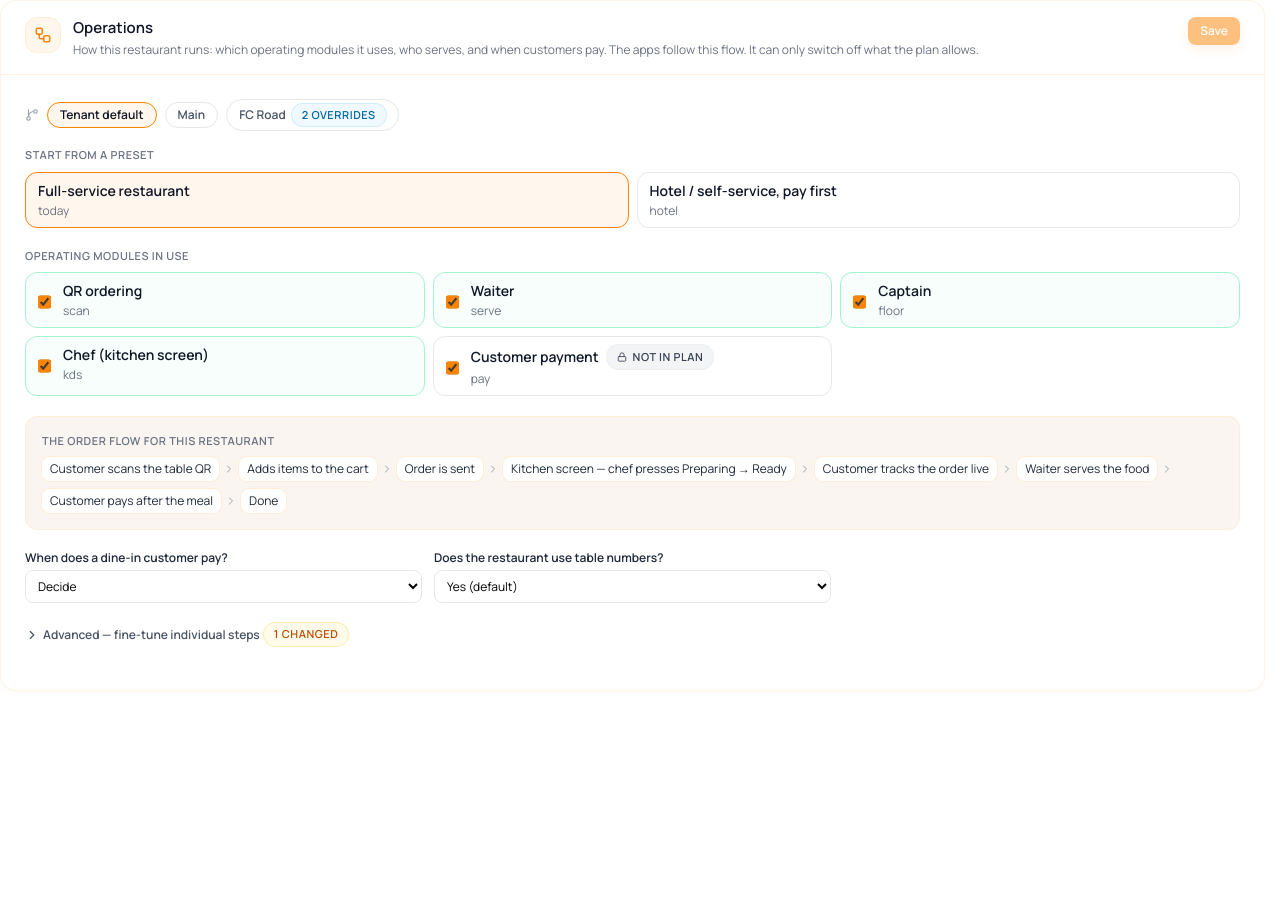
Scenario: OperationsPanel › per-branch overrides (design §12.1) › advanced rows show the override tag and revert to the tenant value
Expected: the element with test id "ops-modules" is shown, [25,272,1240,396]
Expected: the element with test id "ops-scope" is shown, [25,98,399,131]
Click the button "FC Road 2 overrides".
click(312, 115)  # box [226,98,399,131]
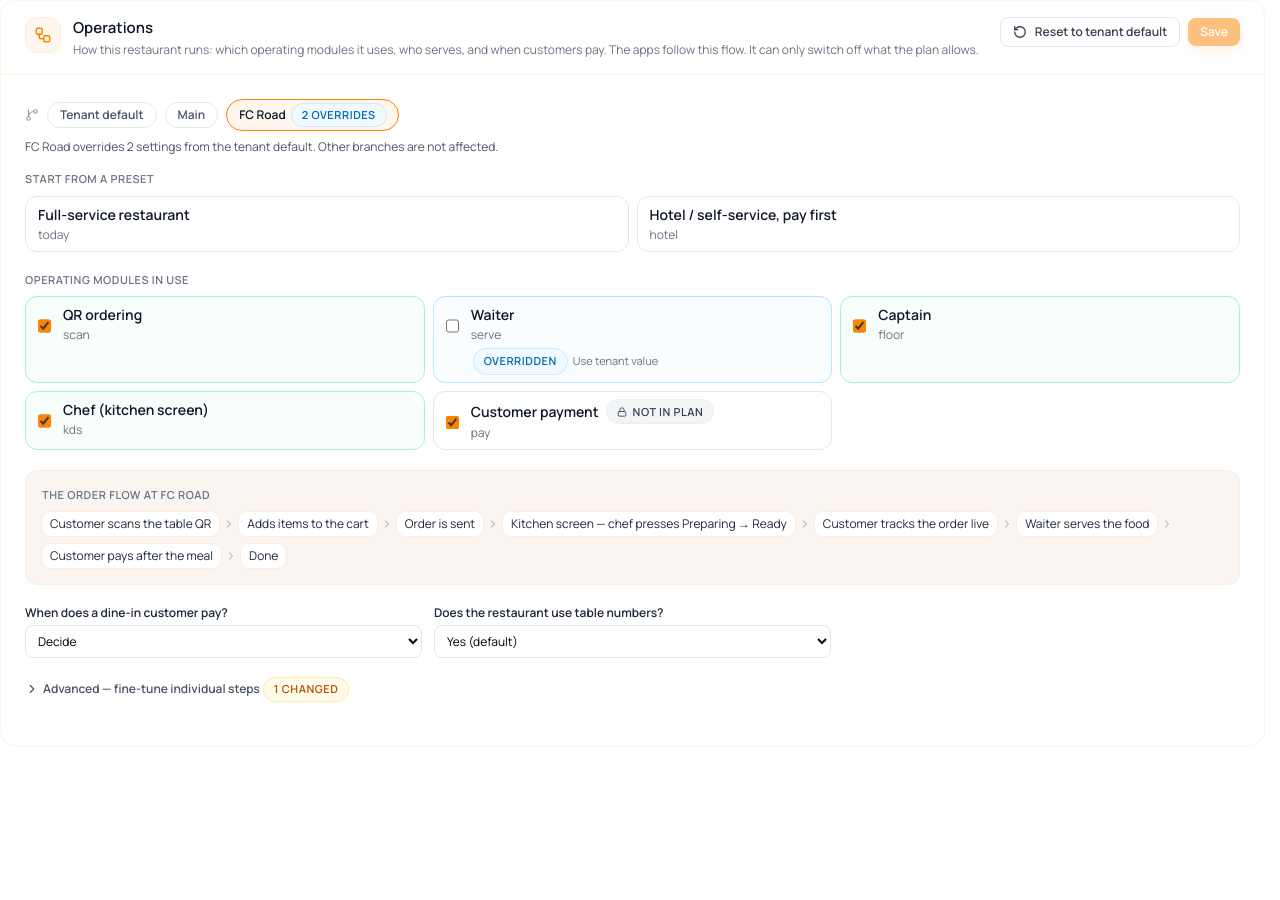
Expected: the text with test id "ops-branch-note" shows "overrides 2 settings", [25,138,498,155]
Click the button "Advanced — fine-tune individual steps 1 changed".
click(187, 689)  # box [25,678,348,701]
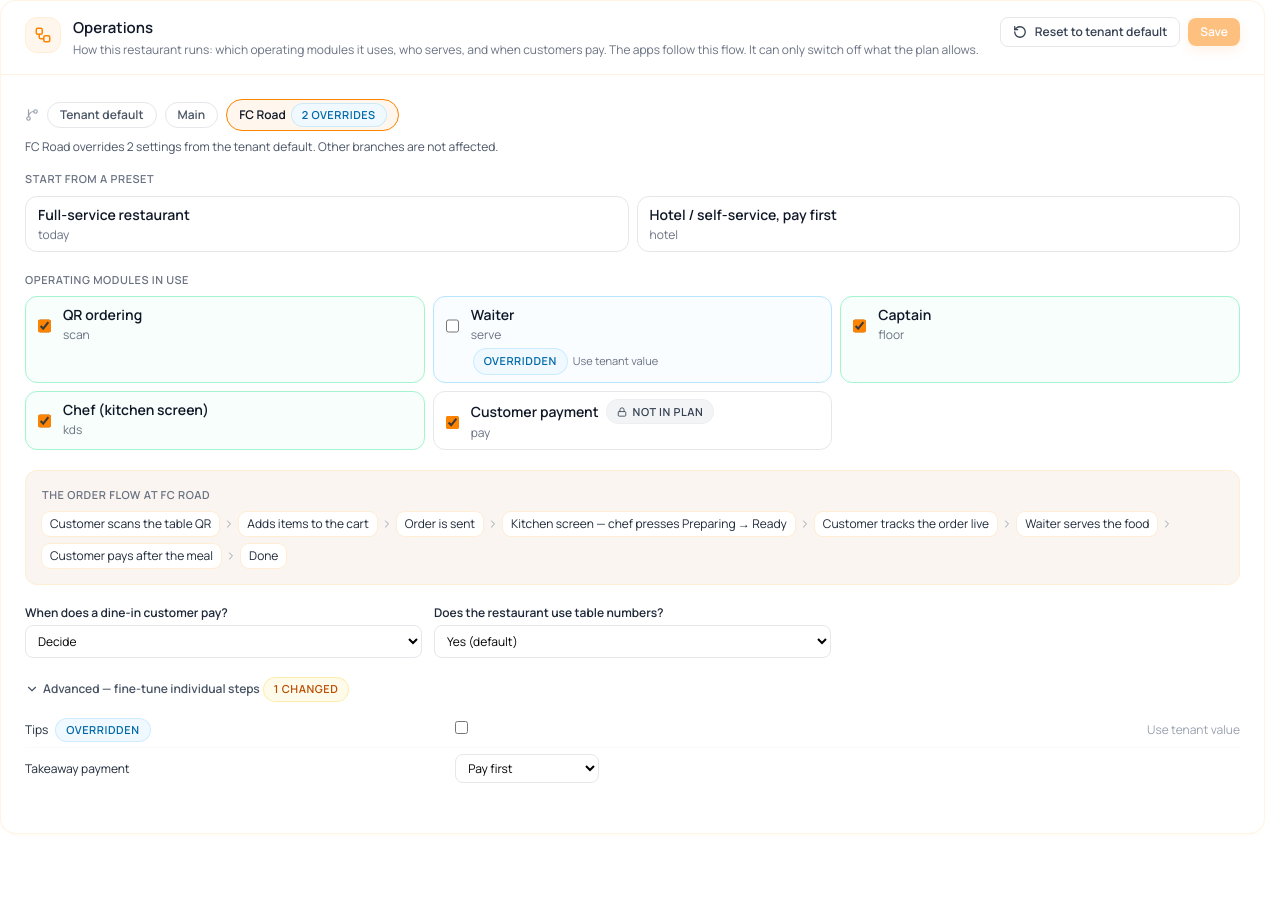
Expected: the element with test id "ops-override-advanced.customerApp.tips" is shown, [56,720,150,738]
Expected: the checkbox named "Tips" is not checked, [455,721,468,734]
Click the button "Use tenant value" in the row of "Tips".
click(1194, 730)  # box [1147,722,1240,738]
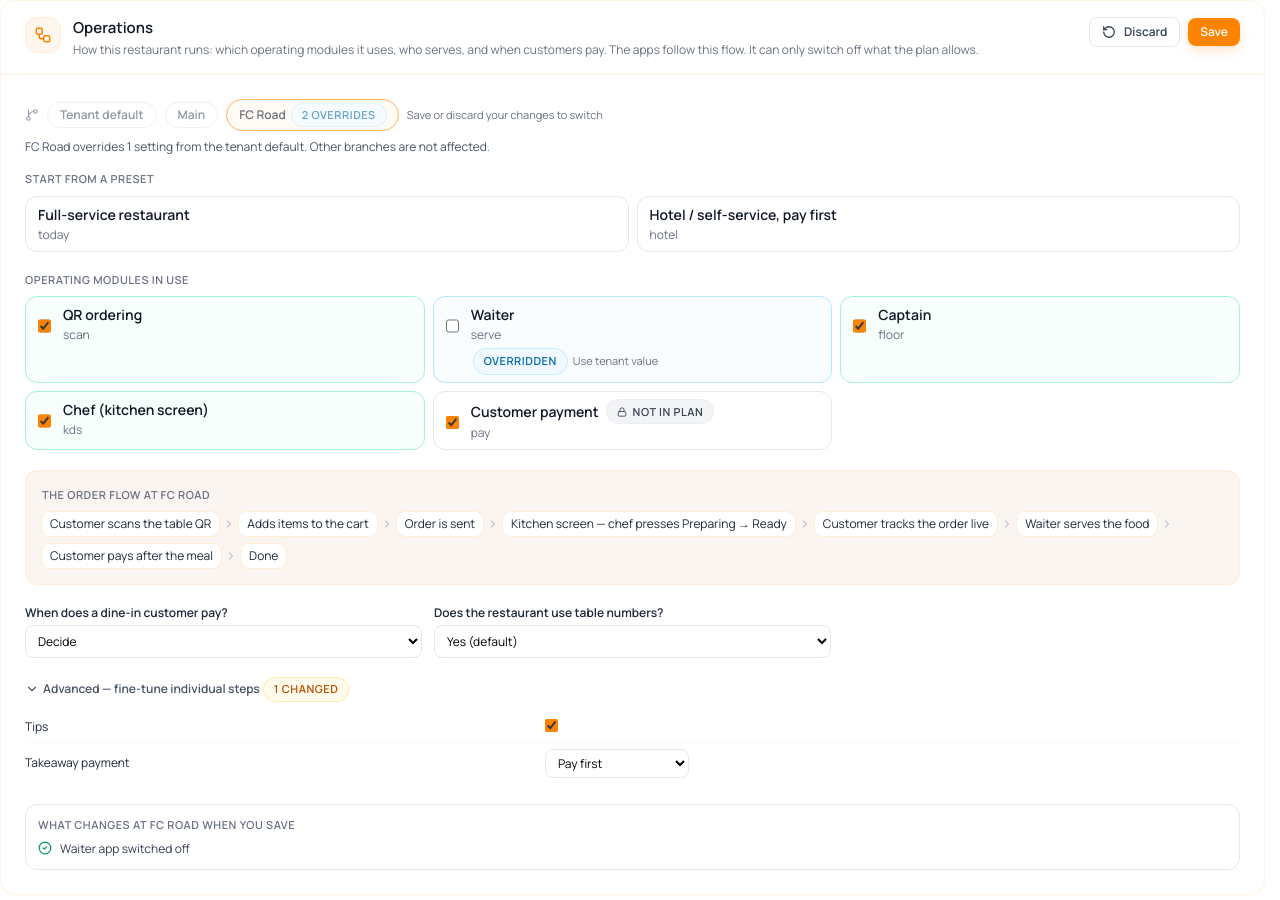
Expected: the checkbox named "Tips" is checked, [545,718,558,732]
